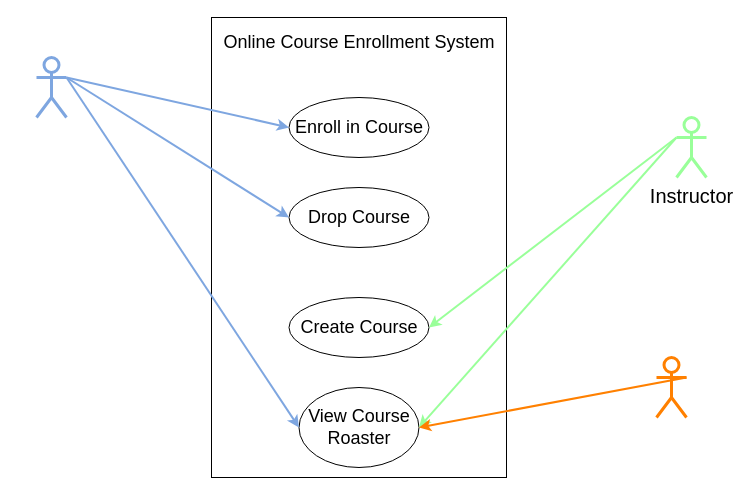
The diagram is 750 pixels wide and 495 high, and some of its shapes have lost their labels. Here are the shapes that lost their labels. From the top down, the centre of each, then its label:
the point at 51,87: Student
the point at 671,387: Admin
